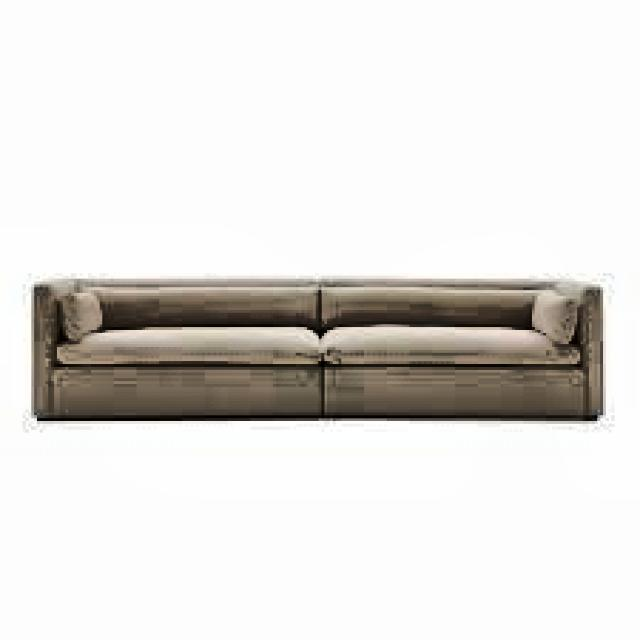sofa: (26, 279, 608, 424)
